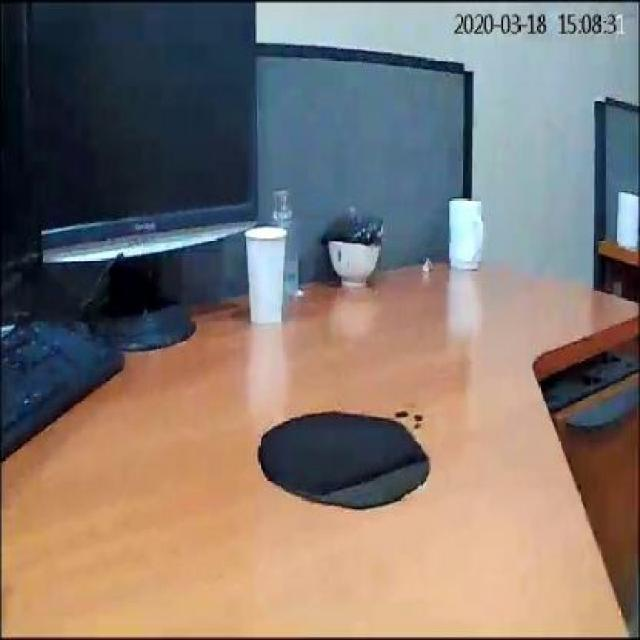spill: (254, 406, 434, 508)
